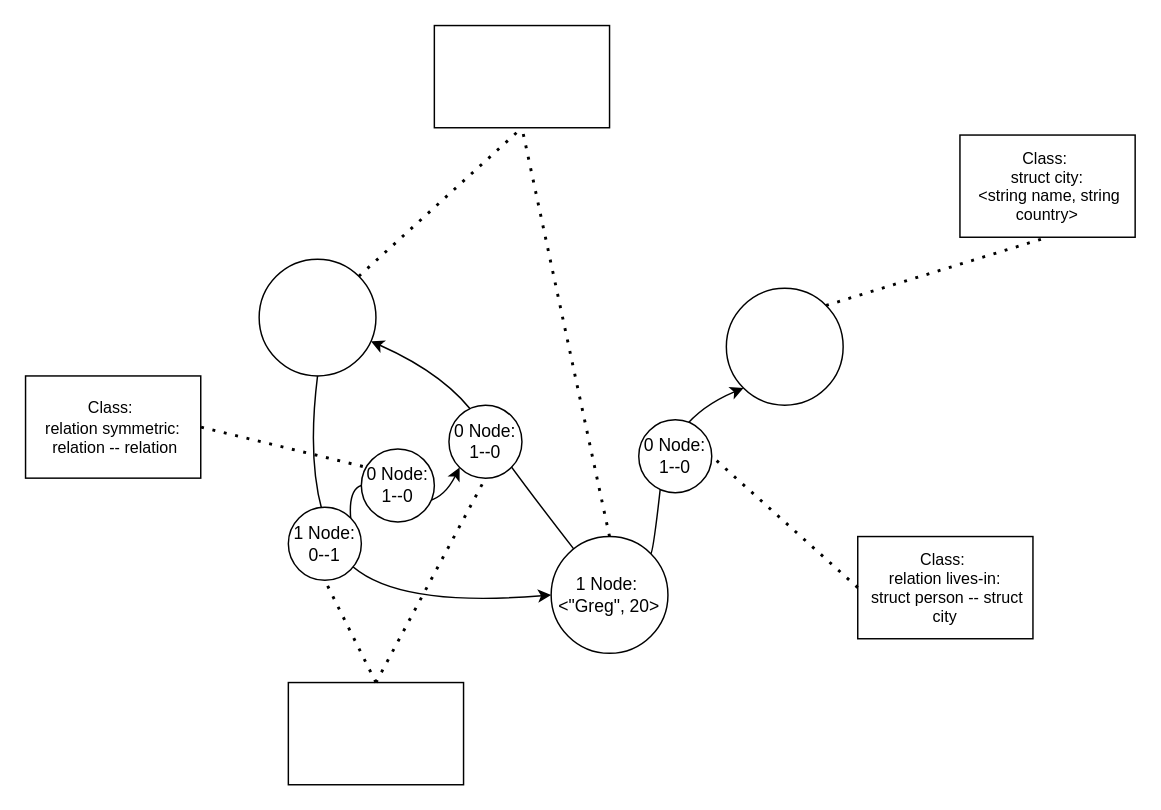
This 1161x810 diagram has some shape labels left out. Each missing label, with the centre of its shape:
0 Node: <"David", 20>: [317,317]
0 Node: <"Saint-P", "Russia">: [784,346]
Class: relation friend-of: struct person -- struct person: [375,733]
Class: struct person: < string name, int age>: [521,76]
